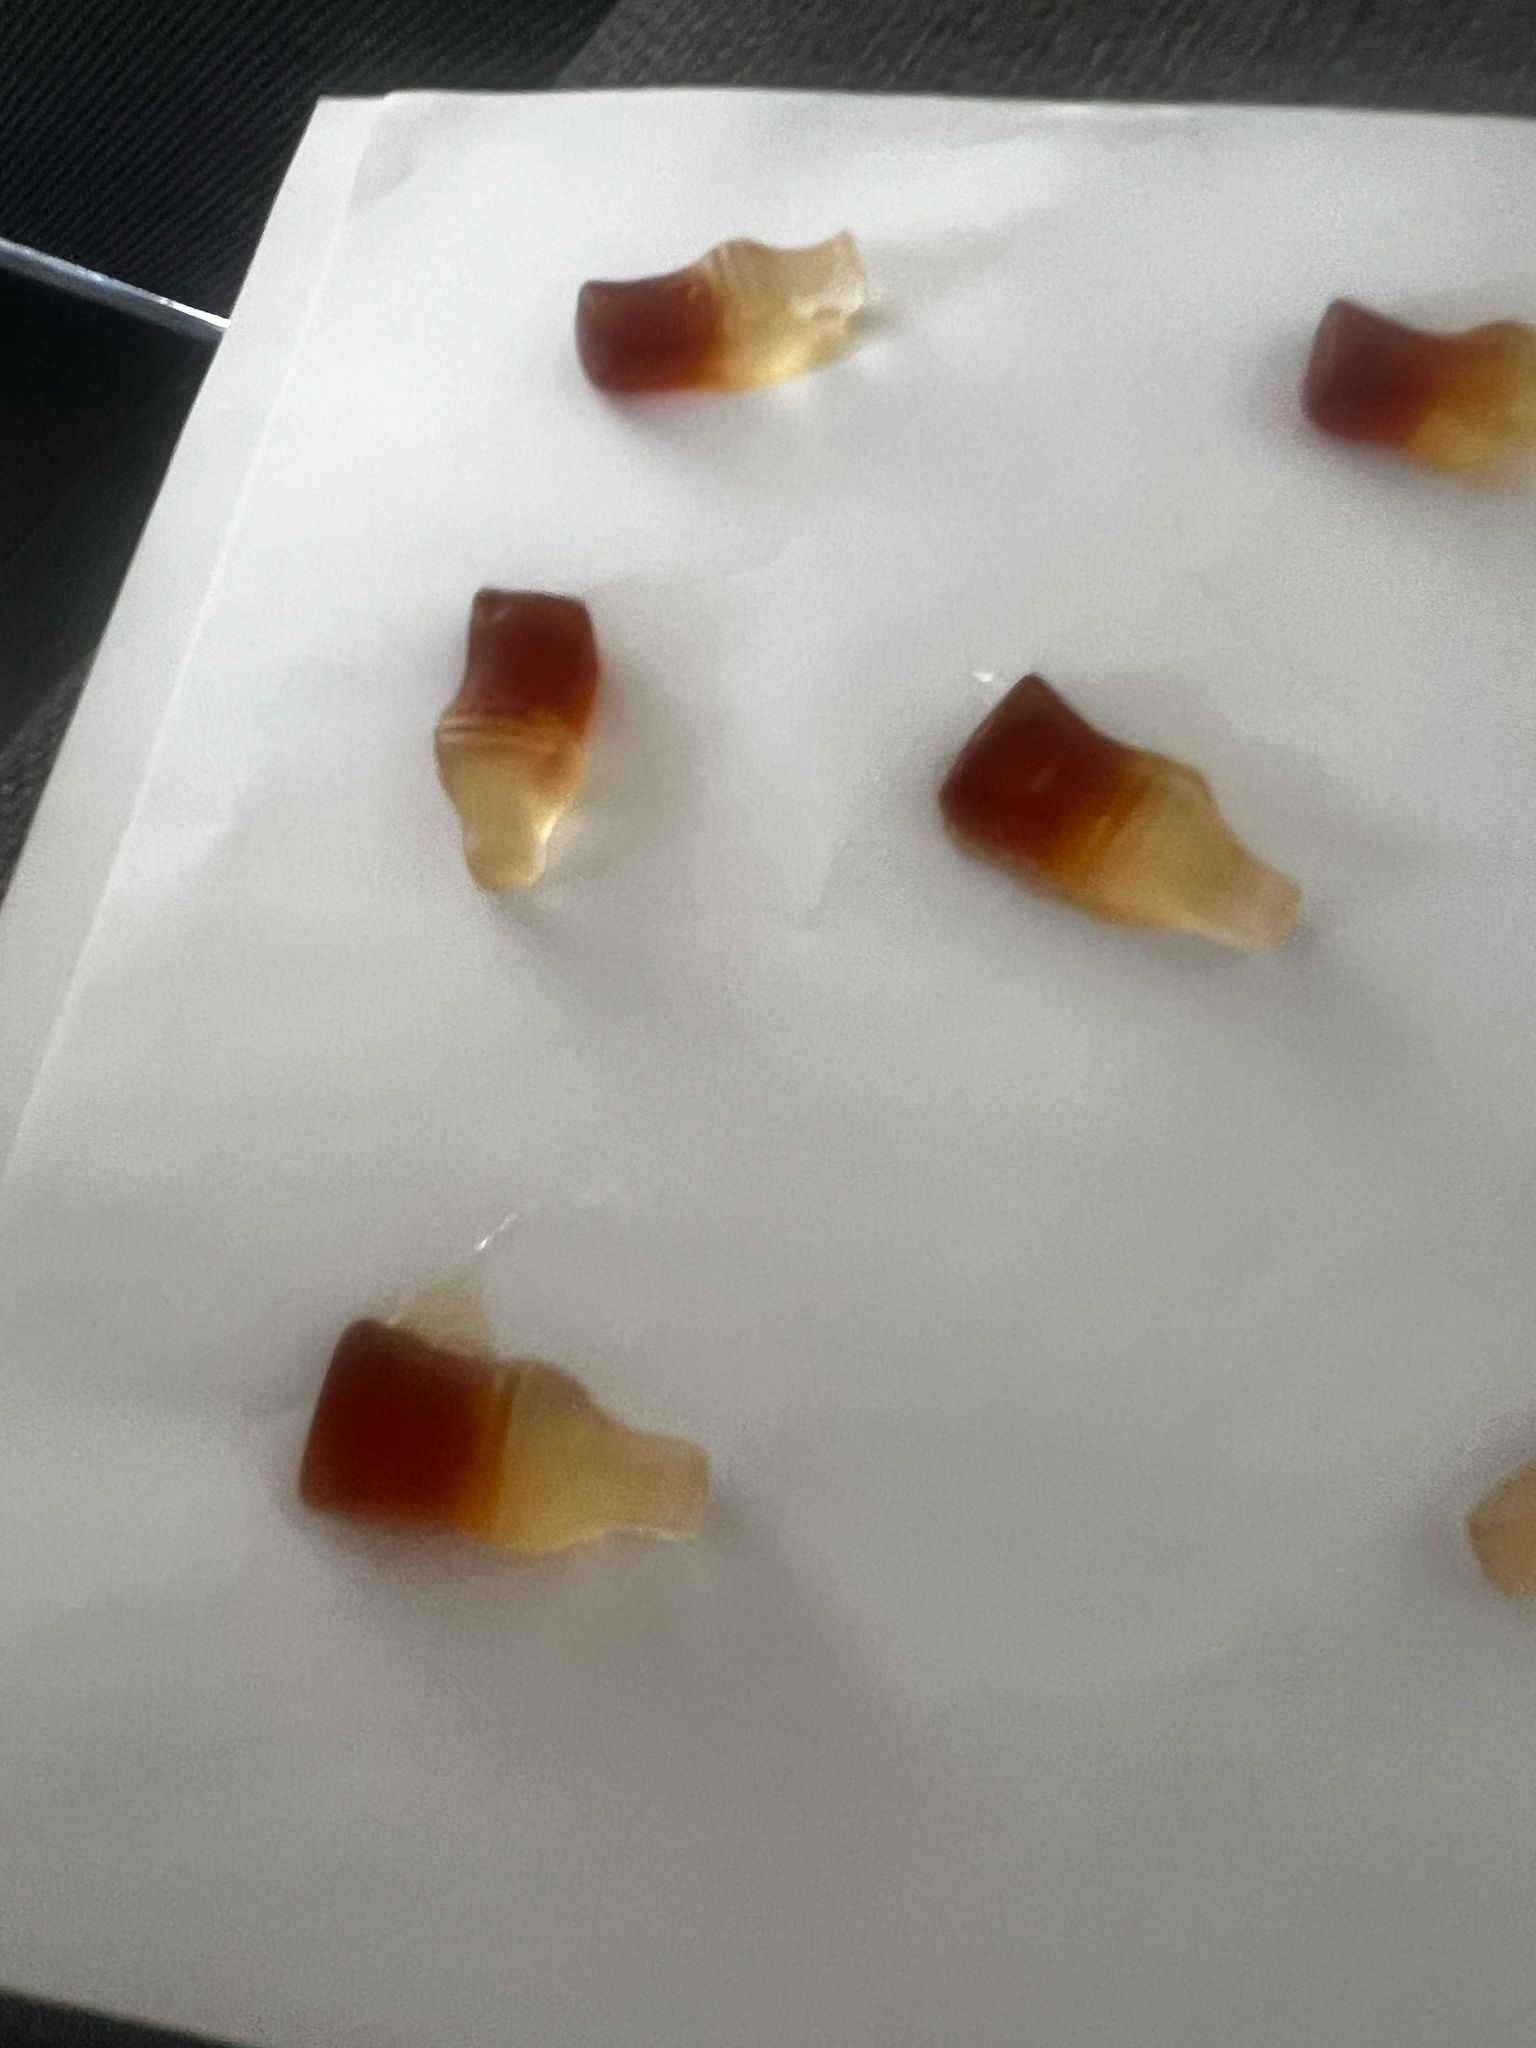cola: (926, 655, 1325, 966), (287, 1306, 728, 1587), (558, 206, 884, 403), (428, 581, 607, 903)
